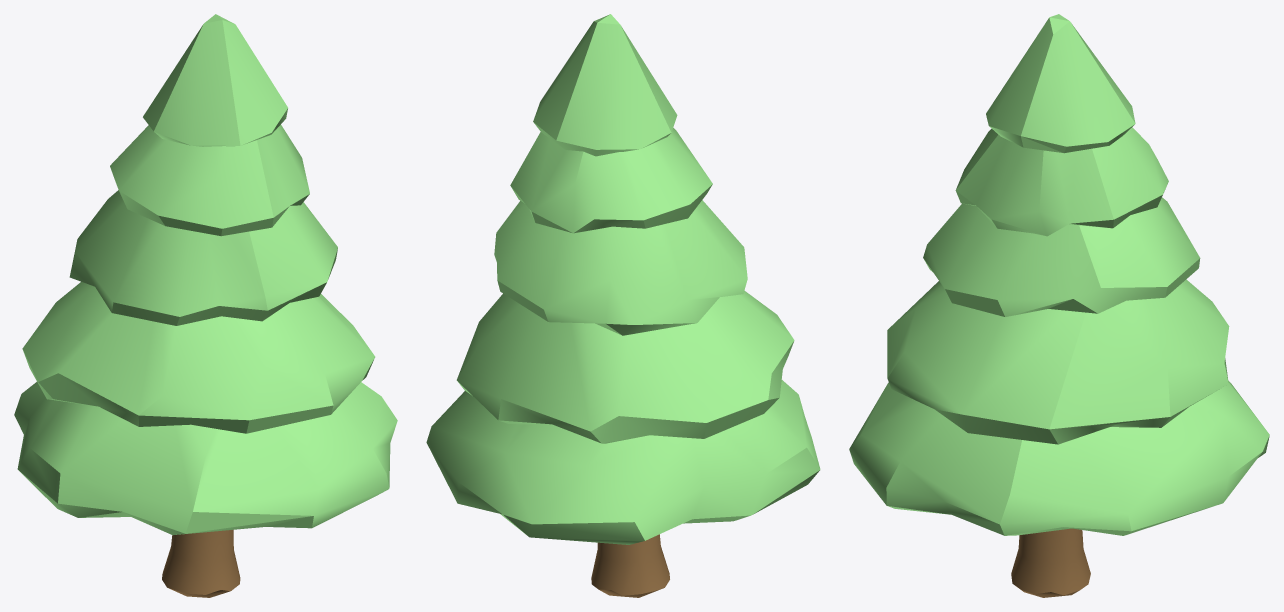
File: spur2.glb
3 views of the same model, side by side, from view 1: azimuth 30°, elevation 25°; view 2: azimuth 150°, elevation 25°; view 3: azimuth 270°, elevation 25° (orthographic). The views are drawn at different scales.
Visible parts, largest first — view 1: spur_leaves_3, spur_trunk_3; view 2: spur_leaves_3, spur_trunk_3; view 3: spur_leaves_3, spur_trunk_3.
Boxes of the visible parts, x1,y1,x2,y2 form: spur_leaves_3: (14,14,397,535); spur_trunk_3: (162,529,240,597); spur_leaves_3: (426,14,820,544); spur_trunk_3: (591,534,669,597); spur_leaves_3: (849,14,1269,535); spur_trunk_3: (1011,528,1090,597).
Bounding box in the file's own units: 9.53 × 15.23 × 10.01.
